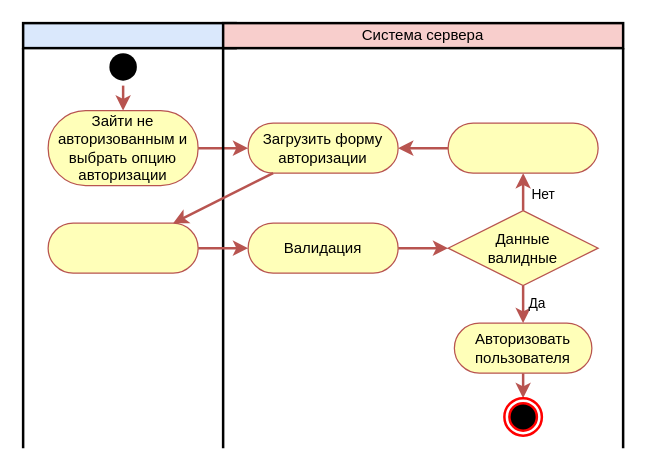
This 648x471 diagram has some shape labels left out. The shapes that lost their labels are listed below. From the top down, each one's centre as x and y in pixels, then its label:
pixel 128 35: Пользователь
pixel 522 147: Вывести ошибки
pixel 122 247: Ввести данные
